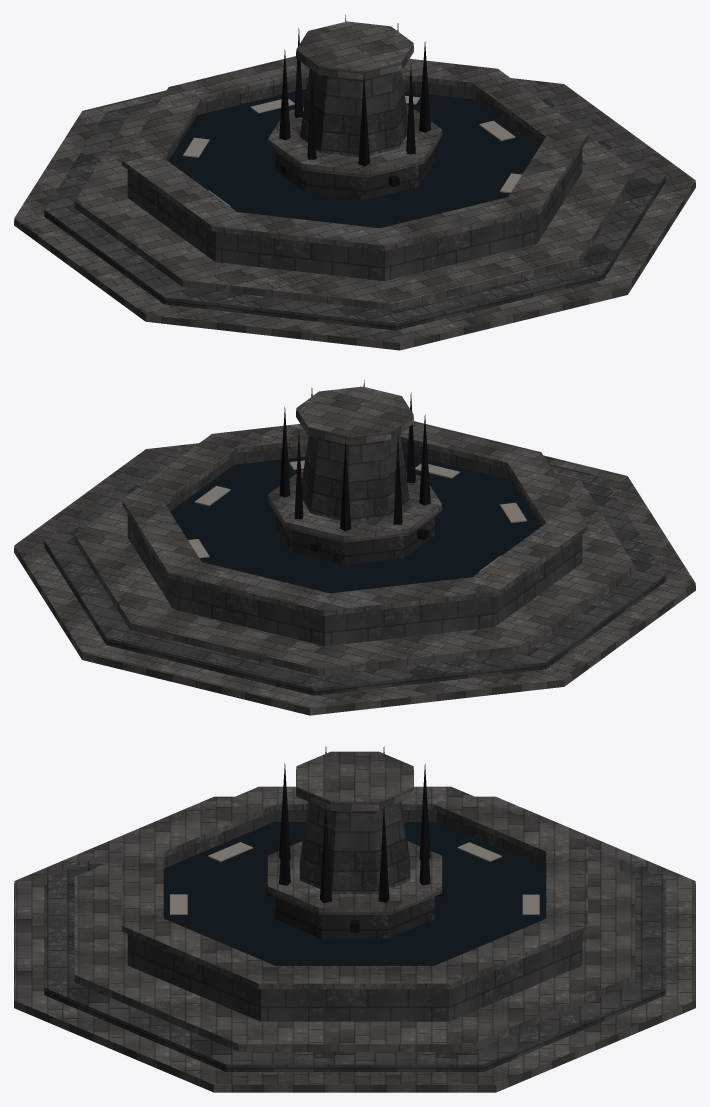
The model's file is PlazaFuente.gltf.
3 views of the same model, one above another, from view 1: azimuth 30°, elevation 25°; view 2: azimuth 150°, elevation 25°; view 3: azimuth 270°, elevation 25° (orthographic). The views are drawn at different scales.
Visible parts, largest first — view 1: PlazaFuente; view 2: PlazaFuente; view 3: PlazaFuente.
Part boxes in pixels (bbox=[...]): PlazaFuente: bbox=[14, 15, 695, 350]; PlazaFuente: bbox=[14, 380, 695, 715]; PlazaFuente: bbox=[14, 746, 695, 1092].
Size of the model in its own units: 16.64 by 4.7 by 16.64.
6 materials, 3 textured.
